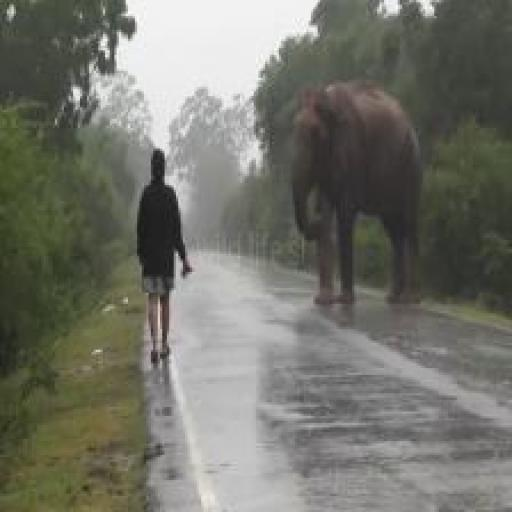Elephant: (263, 68, 442, 350)
